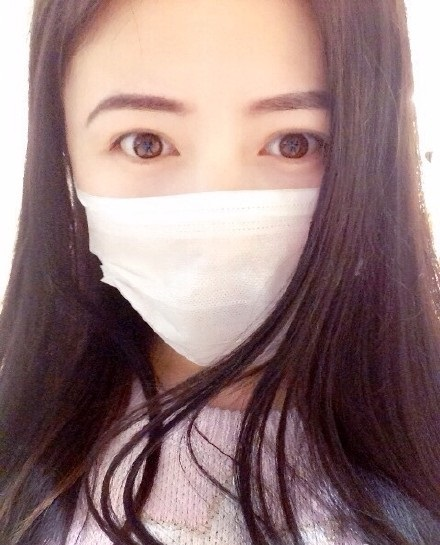face_mask: (73, 0, 338, 357)
